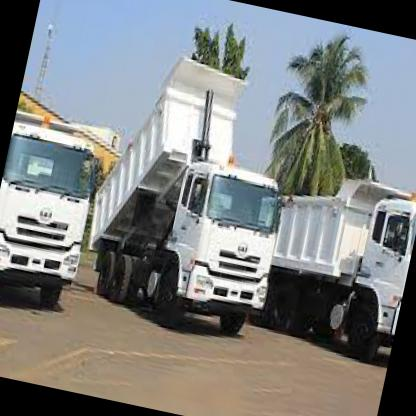truck: (152, 154, 294, 344), (1, 121, 108, 322)
